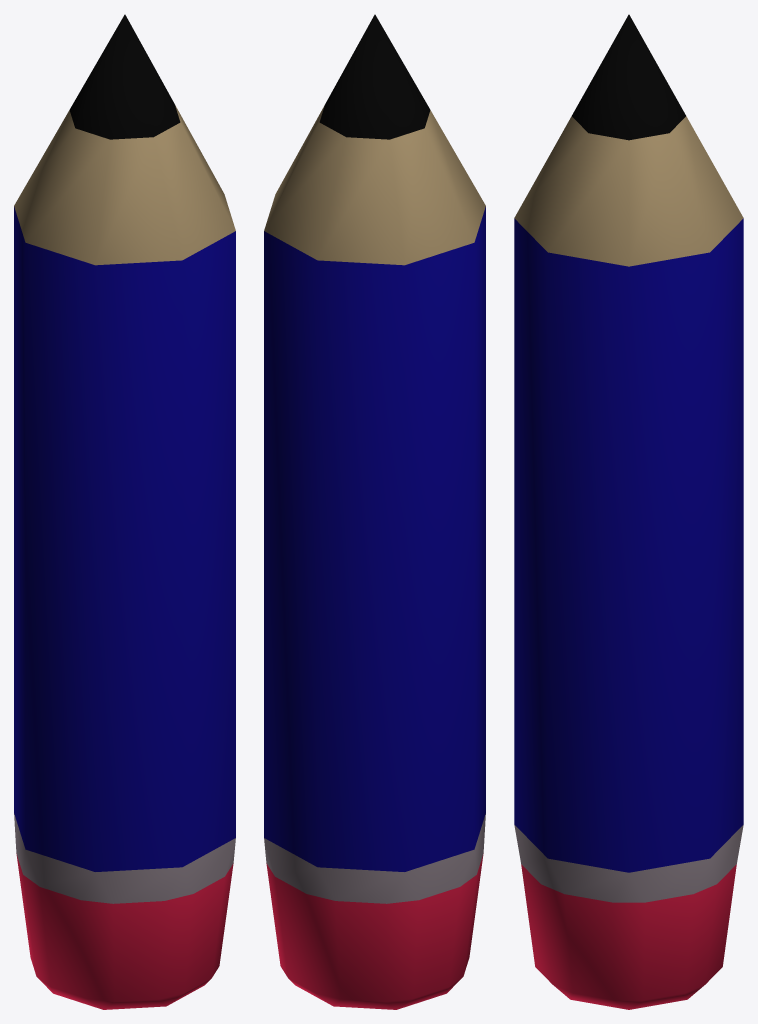
File: pencil.gltf
3 renders of one model, left to right at view 1: azimuth 30°, elevation 25°; view 2: azimuth 150°, elevation 25°; view 3: azimuth 270°, elevation 25°, orthographic.
Visible parts, largest first — view 1: Pencil; view 2: Pencil; view 3: Pencil.
Part boxes in pixels (left/top/right/bottom): Pencil: left=14, top=14, right=235, bottom=1009; Pencil: left=264, top=14, right=485, bottom=1009; Pencil: left=514, top=14, right=743, bottom=1009.
Size of the model in its own units: 2 by 9.24 by 2.
